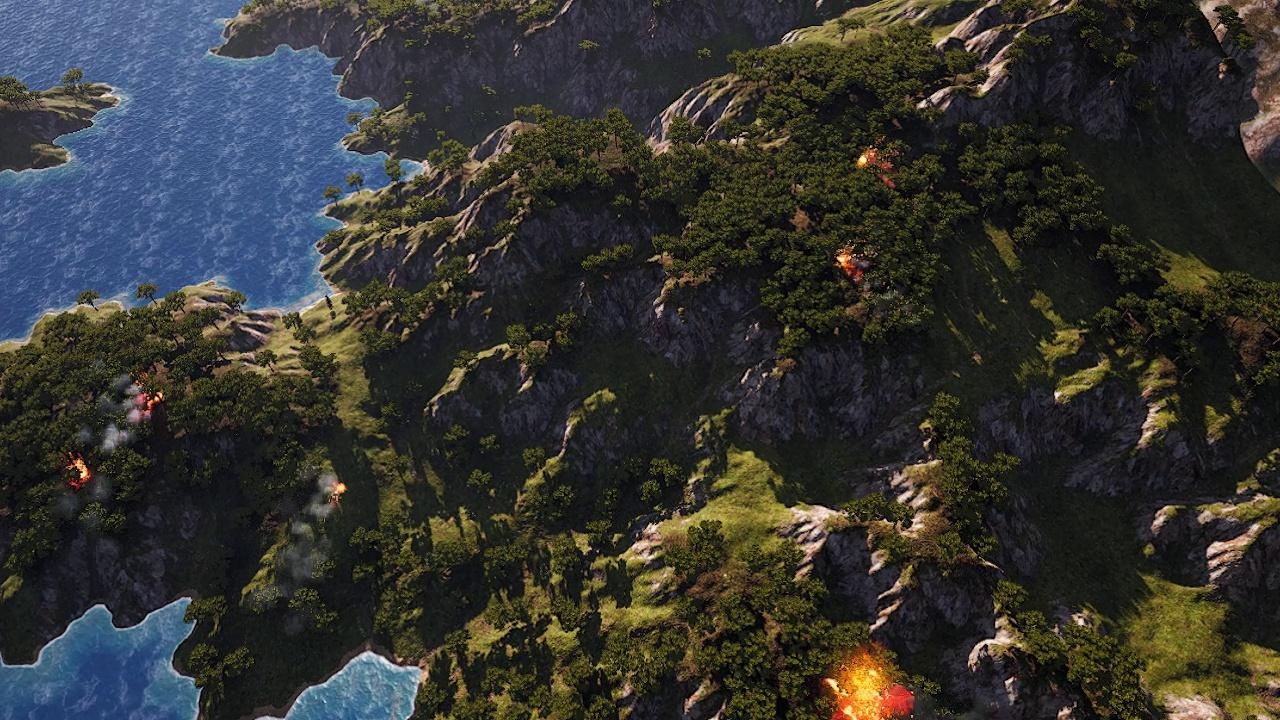fire: (825, 670, 909, 720), (860, 150, 898, 188), (837, 249, 865, 281), (64, 458, 88, 488), (141, 391, 163, 411), (333, 481, 349, 497)
smoke: (276, 466, 346, 591), (85, 372, 153, 451)
